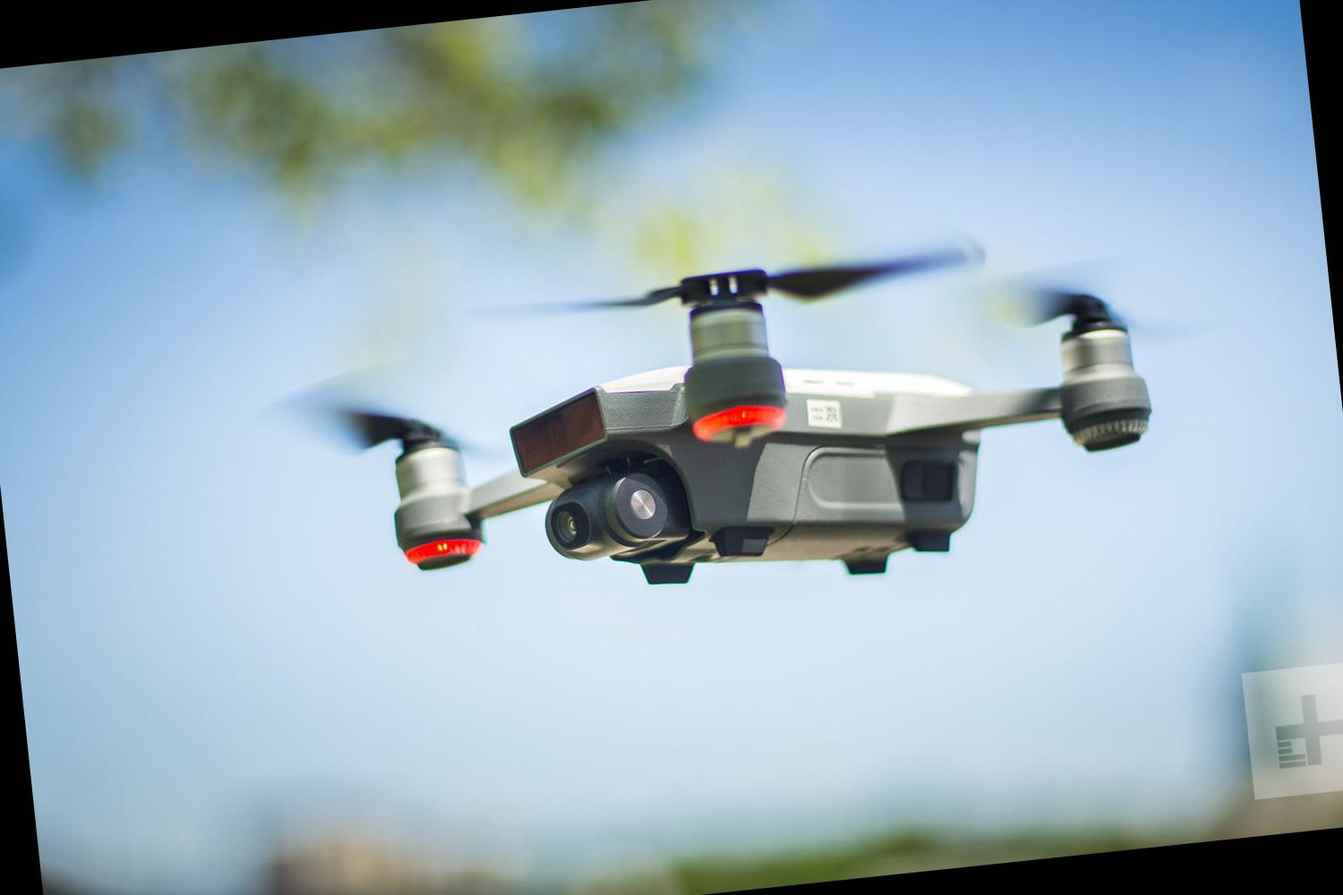drone: (245, 188, 1198, 642)
